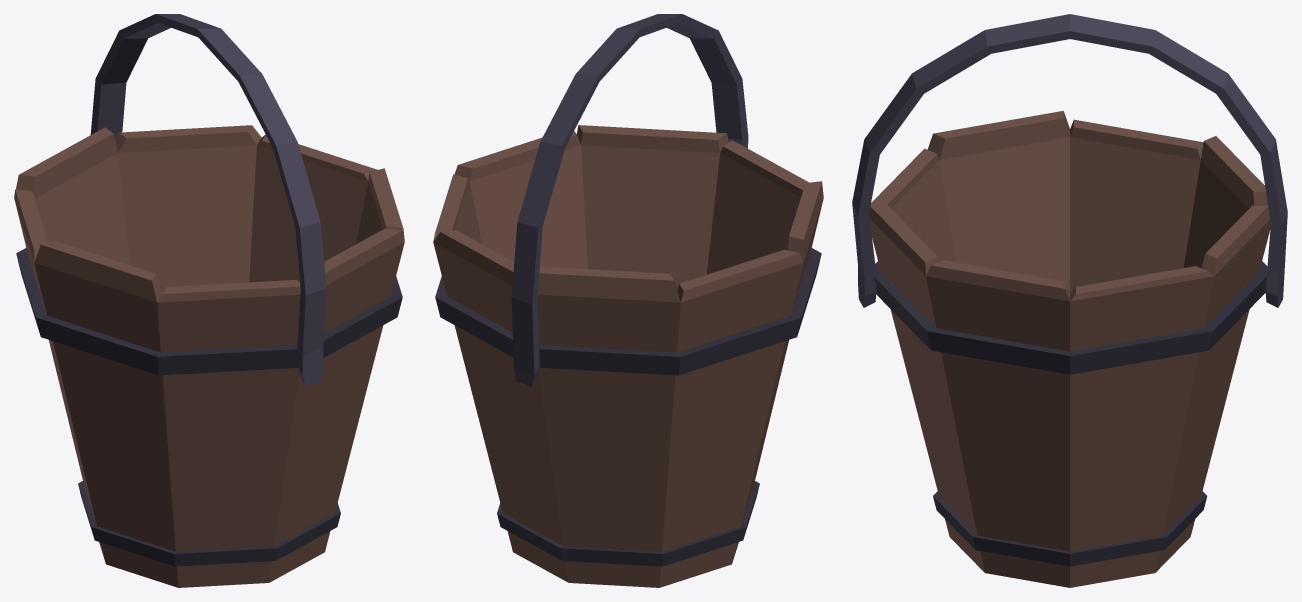
The model's file is Bucket-transformed.glb.
3 renders of one model, left to right at view 1: azimuth 30°, elevation 25°; view 2: azimuth 150°, elevation 25°; view 3: azimuth 270°, elevation 25°, orthographic.
Visible parts, largest first — view 1: Bucket; view 2: Bucket; view 3: Bucket.
Part boxes in pixels (x1,y1,x2,y2): Bucket: (14, 14, 404, 587); Bucket: (433, 14, 823, 587); Bucket: (852, 14, 1287, 587).
Size of the model in its own units: 0.3782 by 0.5294 by 0.4041.
